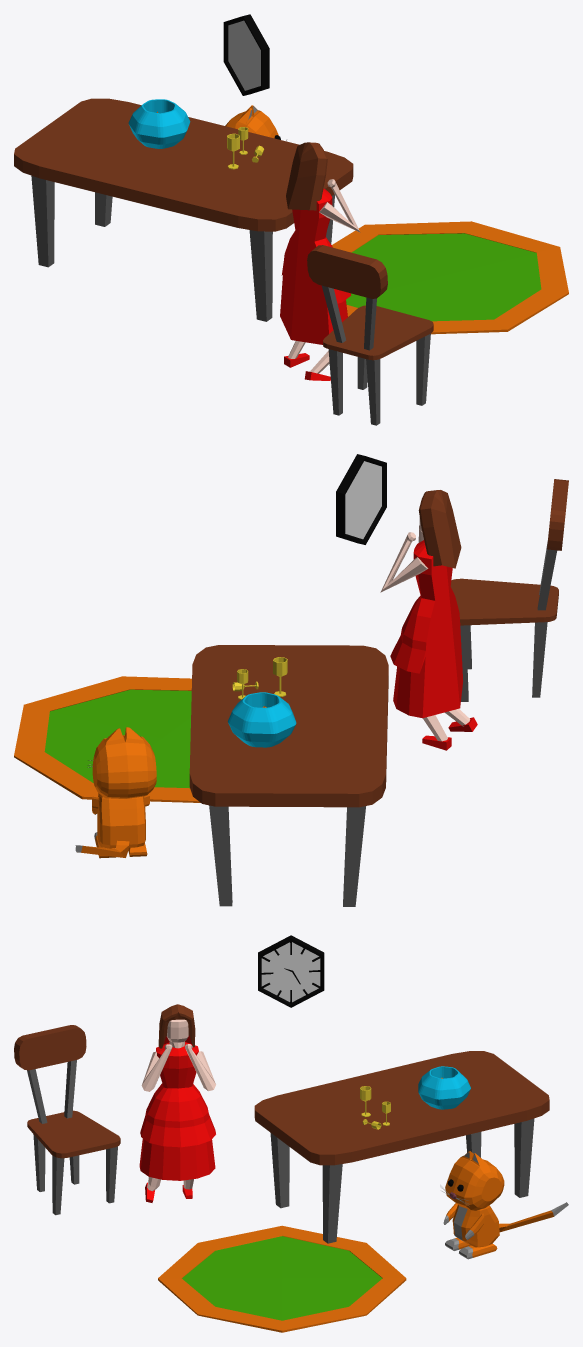
The model's file is sahne_2.fbx.
3 views of the same model, one above another, from view 1: azimuth 30°, elevation 25°; view 2: azimuth 150°, elevation 25°; view 3: azimuth 270°, elevation 25° (orthographic). The views are drawn at different scales.
Parts seen in each view (by area): view 1: masa, hali, sandalye, karakter.003, saat, akvaryum, kedi, bardak; view 2: masa, hali, karakter.003, sandalye, kedi, saat, akvaryum, bardak; view 3: masa, hali, karakter.003, sandalye, kedi, saat, akvaryum.
Part boxes in pixels (x1=…): masa: x1=14, y1=98, x2=353, y2=321; hali: x1=332, y1=221, x2=568, y2=334; sandalye: x1=307, y1=245, x2=433, y2=425; karakter.003: x1=280, y1=142, x2=360, y2=380; saat: x1=223, y1=14, x2=269, y2=95; akvaryum: x1=128, y1=99, x2=190, y2=148; kedi: x1=225, y1=105, x2=287, y2=140; bardak: x1=227, y1=127, x2=264, y2=169; masa: x1=189, y1=645, x2=388, y2=906; hali: x1=14, y1=676, x2=200, y2=802; karakter.003: x1=380, y1=490, x2=477, y2=750; sandalye: x1=450, y1=479, x2=568, y2=701; kedi: x1=75, y1=727, x2=156, y2=858; saat: x1=336, y1=454, x2=386, y2=544; akvaryum: x1=227, y1=692, x2=296, y2=747; bardak: x1=232, y1=657, x2=287, y2=699; masa: x1=254, y1=1051, x2=549, y2=1243; hali: x1=158, y1=1225, x2=406, y2=1332; karakter.003: x1=139, y1=1004, x2=215, y2=1202; sandalye: x1=14, y1=1025, x2=120, y2=1215; kedi: x1=440, y1=1151, x2=568, y2=1259; saat: x1=258, y1=935, x2=324, y2=1007; akvaryum: x1=418, y1=1066, x2=470, y2=1109.
Size of the model in its own units: 347 by 237 by 447.
